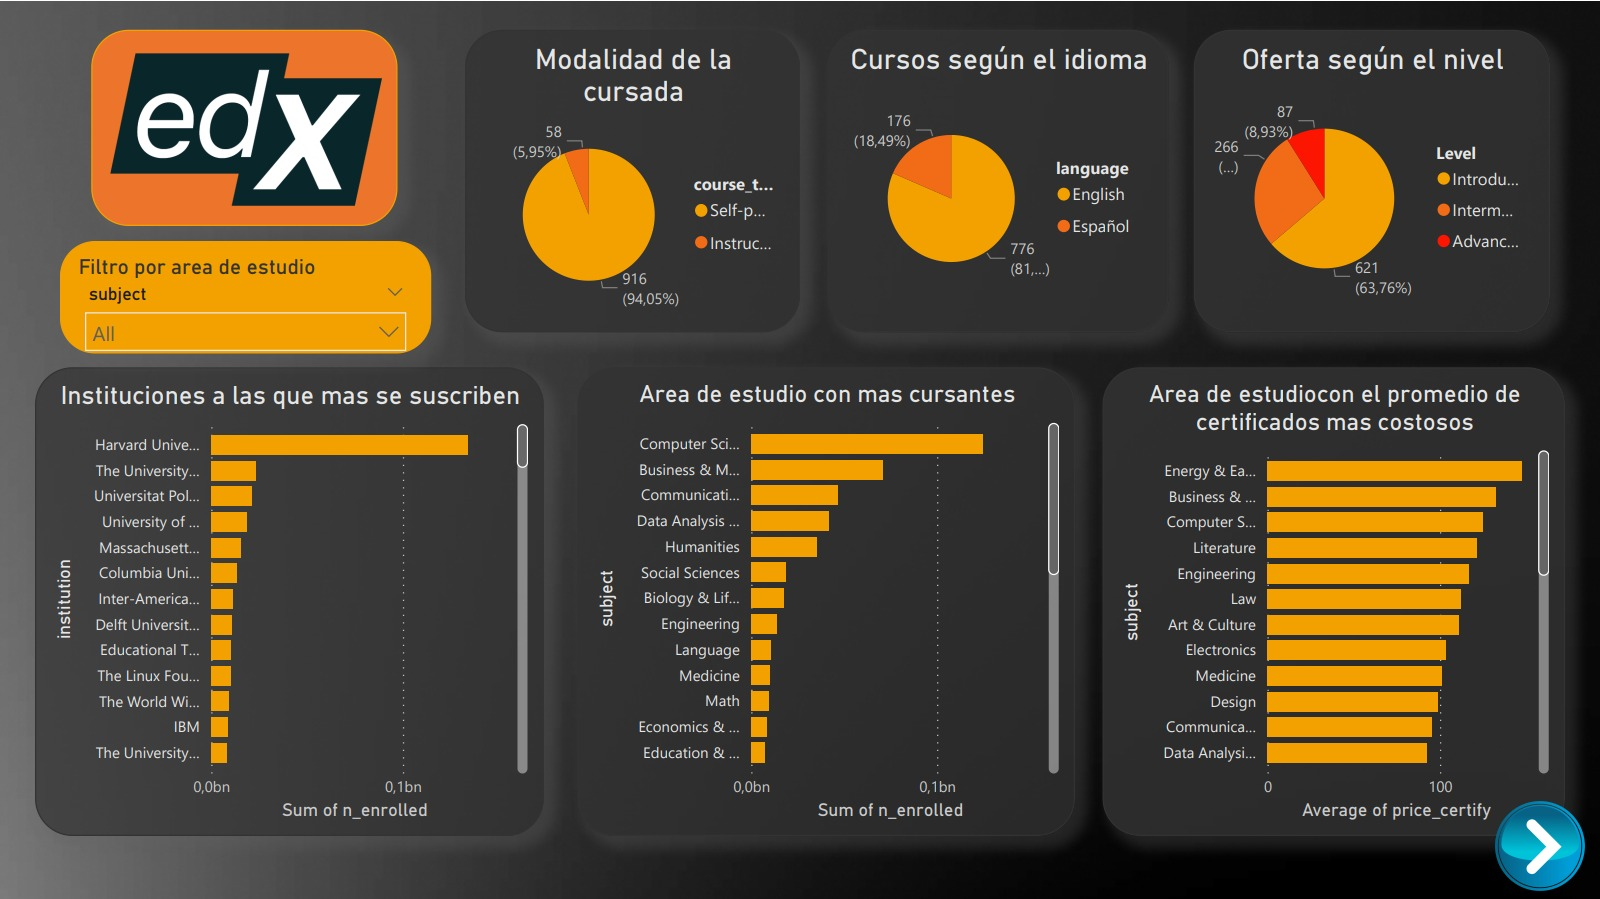

Layout of this report page (visuals, bound fields, positions):
{"tool":"powerbi","page":{"name":"Page 2","canvas":[1280,720],"ordinal":1},"visuals":[{"type":"image","box":[73.3,23.3,245,156.7],"z":0},{"type":"pieChart","title":"Modalidad de la cursada","fields":{"Category":["edx.course_type"],"Y":["CountNonNull(edx.course_type)"]},"box":[371.7,23.3,268.3,241.7],"z":1000},{"type":"pieChart","title":"Cursos según el idioma","fields":{"Category":["edx.language"],"Y":["CountNonNull(edx.language)"]},"box":[661.7,23.3,273.3,241.7],"z":2000},{"type":"pieChart","title":"Oferta según el nivel","fields":{"Category":["edx.Level"],"Y":["CountNonNull(edx.Level)"]},"box":[955,23.3,285,241.7],"z":3000},{"type":"clusteredBarChart","title":"Instituciones a las que mas se suscriben","fields":{"Y":["Sum(edx.n_enrolled)"],"Category":["edx.institution"]},"box":[28.3,293.3,406.7,375],"z":4000},{"type":"clusteredBarChart","title":"Area de estudio con mas cursantes","fields":{"Y":["Sum(edx.n_enrolled)"],"Category":["edx.subject"]},"box":[461.7,293.3,398.3,375],"z":5000},{"type":"clusteredBarChart","title":"Area de estudiocon el promedio de certificados mas costosos","fields":{"Category":["edx.subject"],"Y":["Avg(edx.price_certify)"]},"box":[881.7,293.3,370,375],"z":6000},{"type":"slicer","title":"Filtro por area de estudio","fields":{"Values":["edx.subject"]},"box":[48.3,191.7,296.7,90],"z":7000},{"type":"image","box":[1183.3,631.7,96.7,88.3],"z":8000}]}

Visuals, with their boxes in screenshot pixels (x1, y1, x2, y2), scaled from the page's 1280x720 canvas onto the 1600x899 screenshot:
image: {"left": 92, "top": 29, "right": 398, "bottom": 225}
"Modalidad de la cursada" pieChart: {"left": 465, "top": 29, "right": 800, "bottom": 331}
"Cursos según el idioma" pieChart: {"left": 827, "top": 29, "right": 1169, "bottom": 331}
"Oferta según el nivel" pieChart: {"left": 1194, "top": 29, "right": 1550, "bottom": 331}
"Instituciones a las que mas se suscriben" clusteredBarChart: {"left": 35, "top": 366, "right": 544, "bottom": 834}
"Area de estudio con mas cursantes" clusteredBarChart: {"left": 577, "top": 366, "right": 1075, "bottom": 834}
"Area de estudiocon el promedio de certificados mas costosos" clusteredBarChart: {"left": 1102, "top": 366, "right": 1565, "bottom": 834}
"Filtro por area de estudio" slicer: {"left": 60, "top": 239, "right": 431, "bottom": 352}
image: {"left": 1479, "top": 789, "right": 1599, "bottom": 898}
